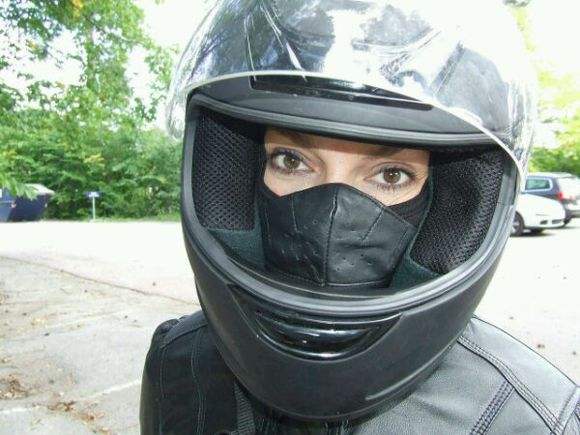face_mask: (261, 96, 434, 302)
